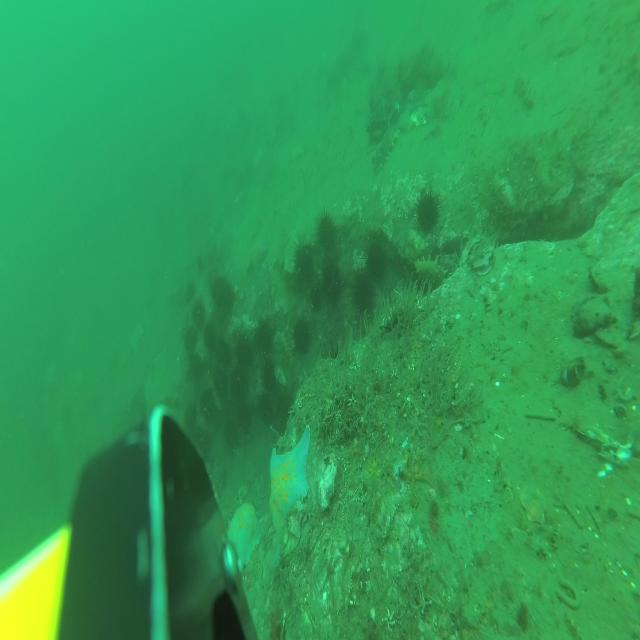echinus: (414, 189, 444, 239), (292, 240, 318, 288), (323, 340, 349, 386), (352, 271, 376, 318), (316, 208, 338, 257), (365, 238, 387, 282), (323, 258, 341, 306), (256, 318, 274, 360), (228, 372, 247, 406), (294, 318, 312, 353), (200, 386, 217, 423), (220, 281, 236, 317), (259, 390, 275, 425), (235, 334, 253, 365), (194, 426, 213, 454), (187, 354, 204, 385), (260, 360, 276, 392), (212, 366, 228, 397), (182, 400, 197, 433), (275, 390, 290, 423), (237, 400, 253, 430), (182, 324, 196, 356), (212, 274, 226, 305), (202, 324, 216, 355), (214, 343, 230, 370), (223, 420, 238, 448), (192, 299, 206, 328), (184, 280, 196, 306), (310, 283, 323, 307)
holothurian: (372, 123, 400, 175), (416, 255, 448, 296), (516, 76, 536, 112), (277, 330, 295, 365), (483, 0, 511, 16), (478, 102, 493, 126)
scallop: (520, 484, 547, 525), (411, 104, 429, 128), (235, 482, 249, 502), (234, 443, 244, 466)
starfish: (269, 422, 311, 567), (227, 501, 261, 574), (404, 451, 433, 501), (245, 236, 268, 278), (367, 453, 383, 481), (348, 442, 358, 458)
